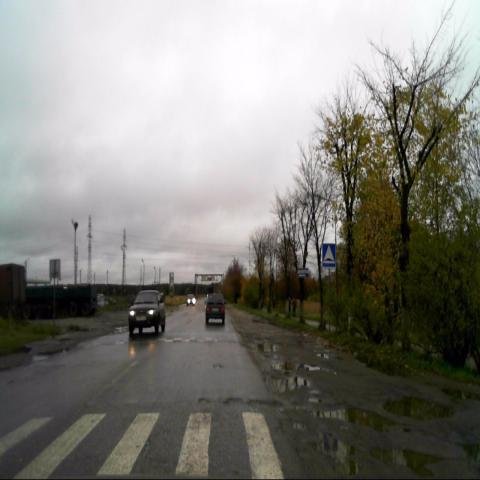5_20: (322, 243, 336, 267)
